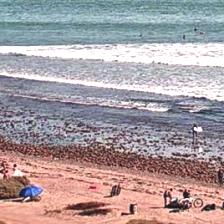surfer: (134, 34, 142, 36), (183, 34, 186, 38), (200, 32, 205, 34), (194, 28, 197, 31)
